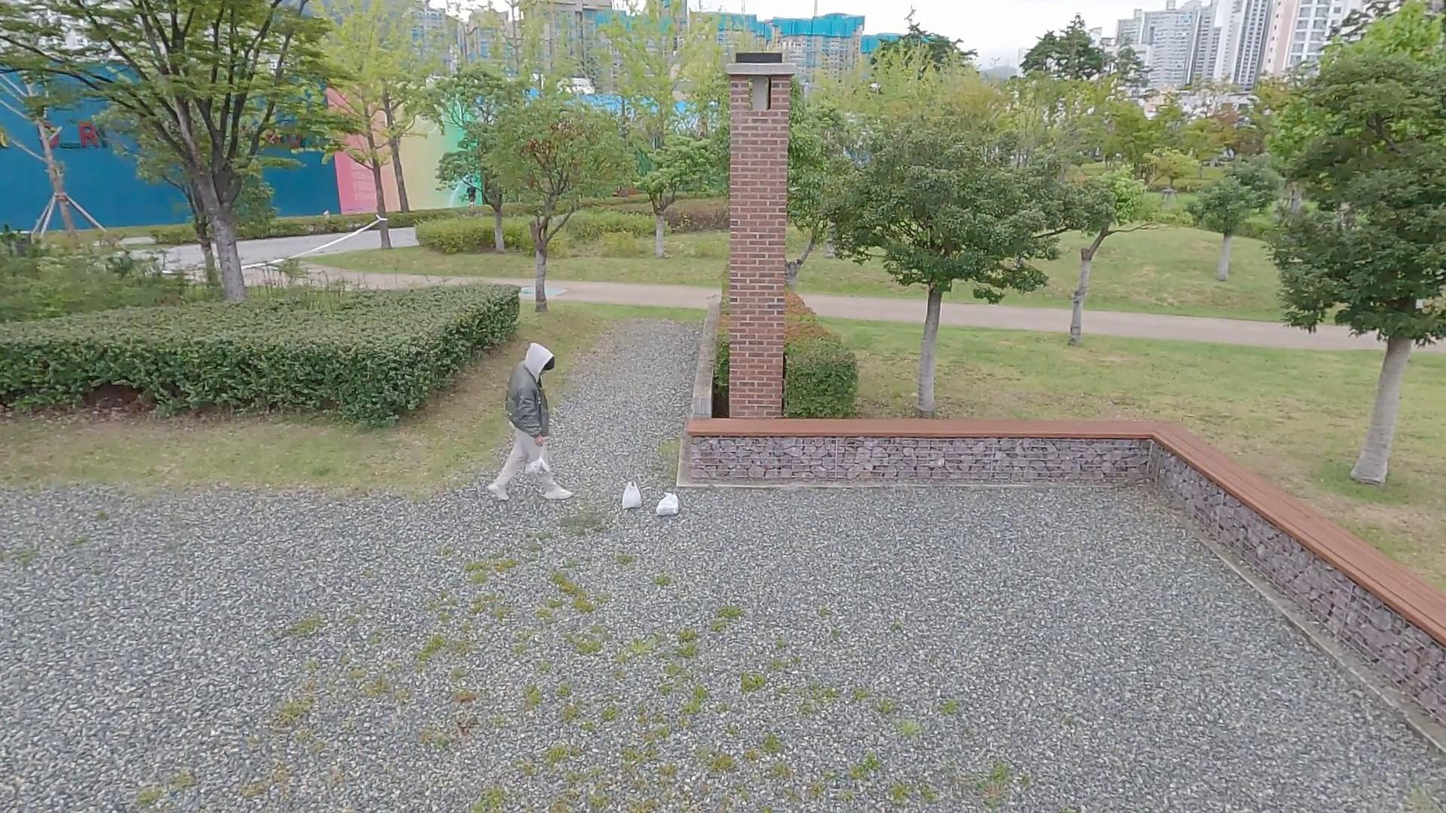person: (488, 343, 571, 500)
trash: (524, 446, 550, 478), (655, 491, 682, 518), (620, 480, 643, 509)
